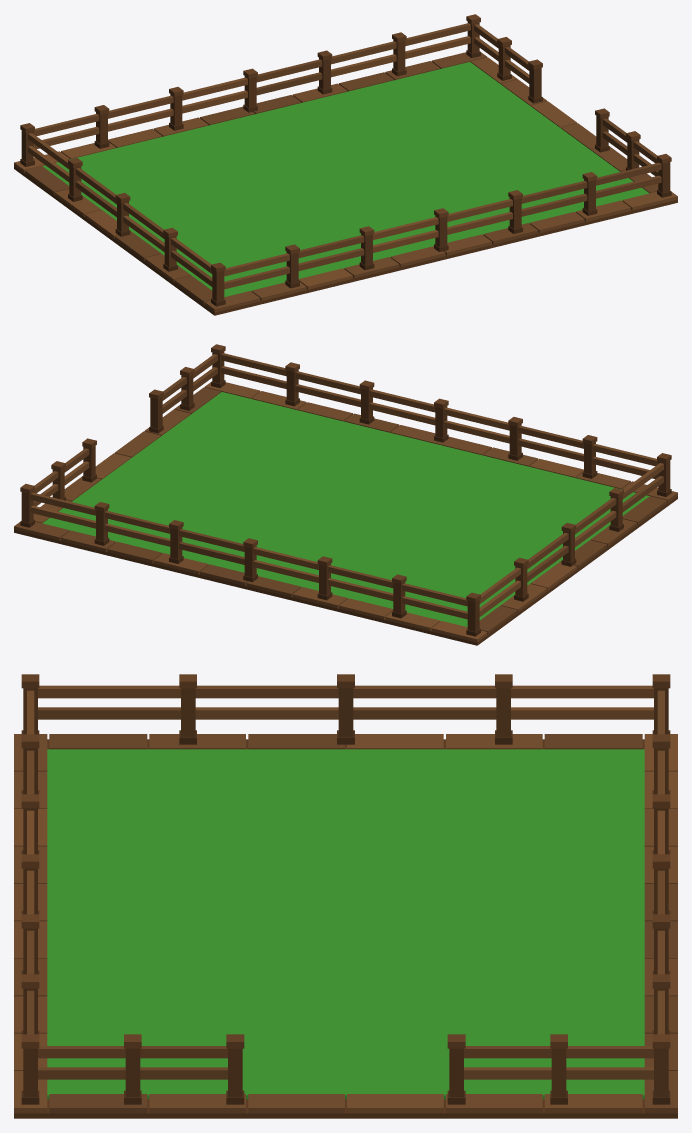
File: plot.glb
The picture shows the model from 3 angles, top to bottom: view 1: azimuth 30°, elevation 25°; view 2: azimuth 150°, elevation 25°; view 3: azimuth 270°, elevation 25°; orthographic projection. The views are drawn at different scales.
Parts seen in each view (by area): view 1: plot; view 2: plot; view 3: plot.
Part boxes in pixels (x1,y1,x2,y2): plot: (14,14,677,315); plot: (14,344,677,645); plot: (14,674,677,1118).
Bounding box in the file's own units: 12 × 1.1 × 9.
